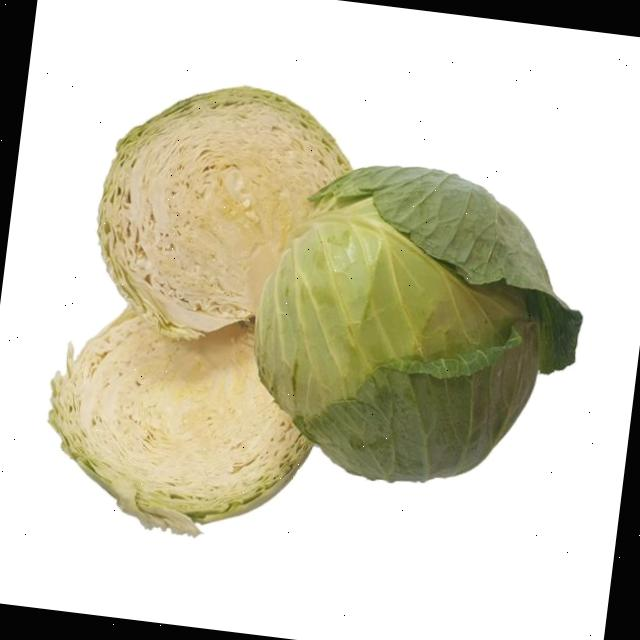cabbage: (236, 155, 598, 506), (26, 280, 358, 566), (88, 80, 360, 358)
